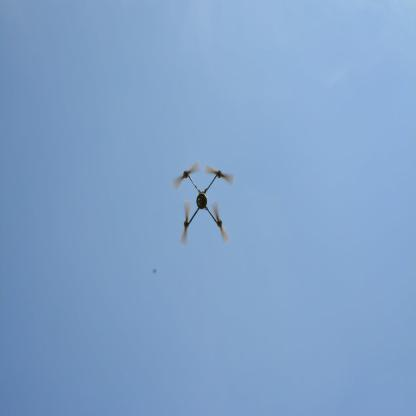UAS: (174, 160, 235, 246)
